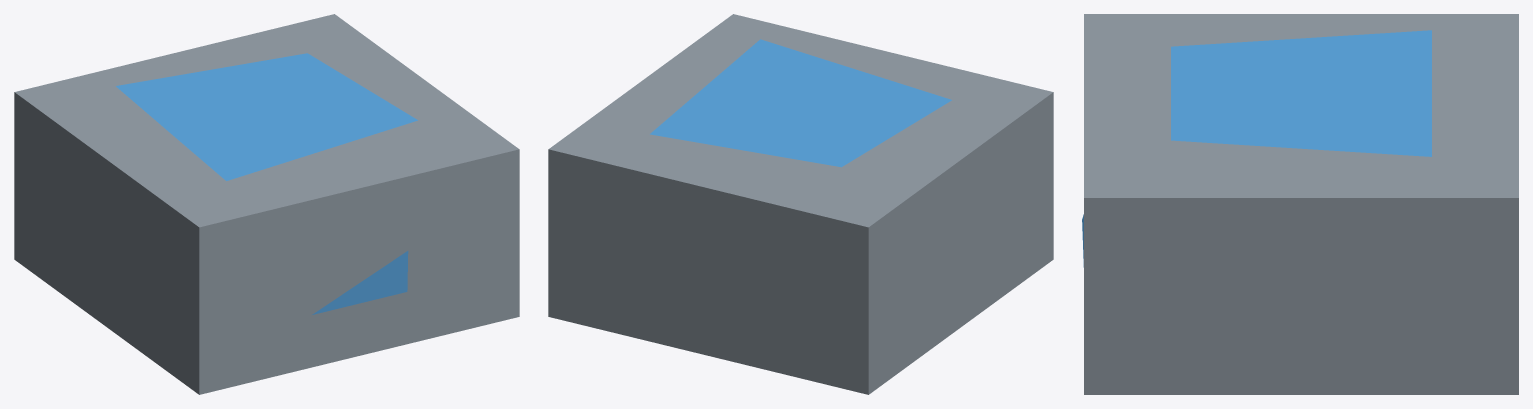
File: AL_WarFactory_LOD1.glb
The picture shows the model from 3 angles, left to right: view 1: azimuth 30°, elevation 25°; view 2: azimuth 150°, elevation 25°; view 3: azimuth 270°, elevation 25°; orthographic projection. The views are drawn at different scales.
Parts seen in each view (by area): view 1: EntranceGate; view 2: EntranceGate; view 3: EntranceGate.
Part boxes in pixels (x1,y1,x2,y2): EntranceGate: (14, 14, 519, 394); EntranceGate: (548, 14, 1053, 394); EntranceGate: (1082, 14, 1518, 394).
Bounding box in the file's own units: 800 × 442 × 803.
